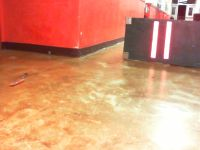switch: (163, 21, 172, 59), (151, 21, 158, 58)
